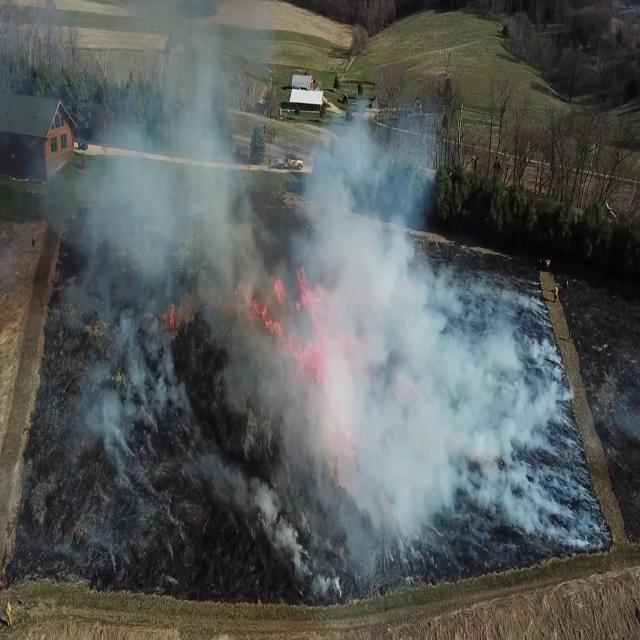Smoke: (21, 68, 541, 594)
